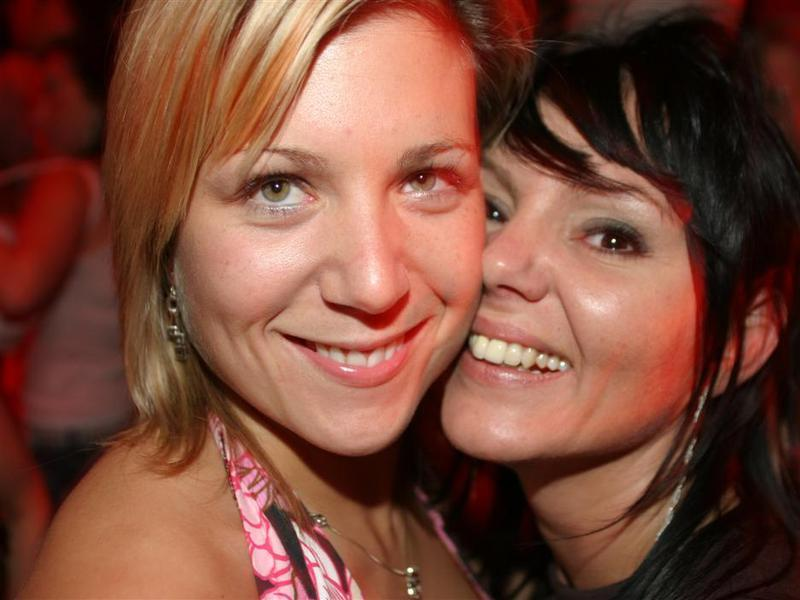person: (57, 1, 545, 600), (436, 28, 800, 590)
